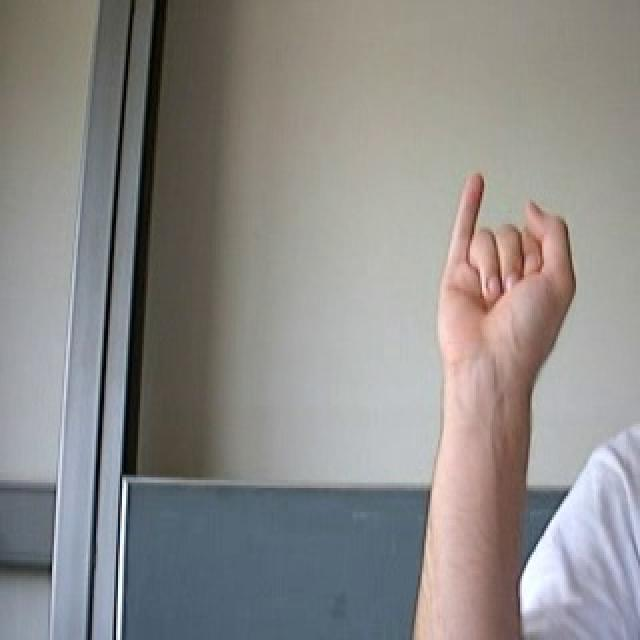I: (428, 166, 593, 394)
